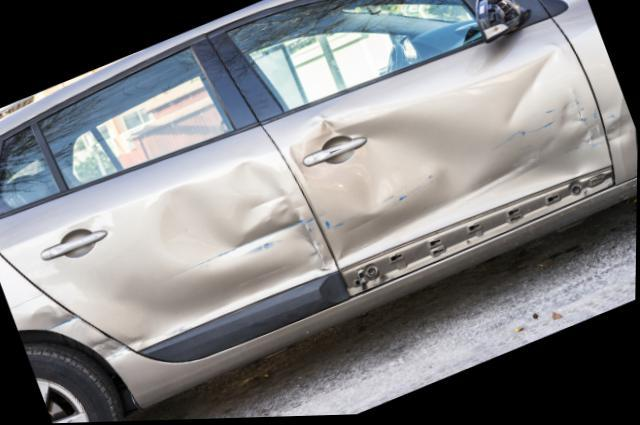dent: (289, 50, 611, 266), (97, 155, 338, 337), (24, 305, 130, 361), (609, 119, 634, 148)
